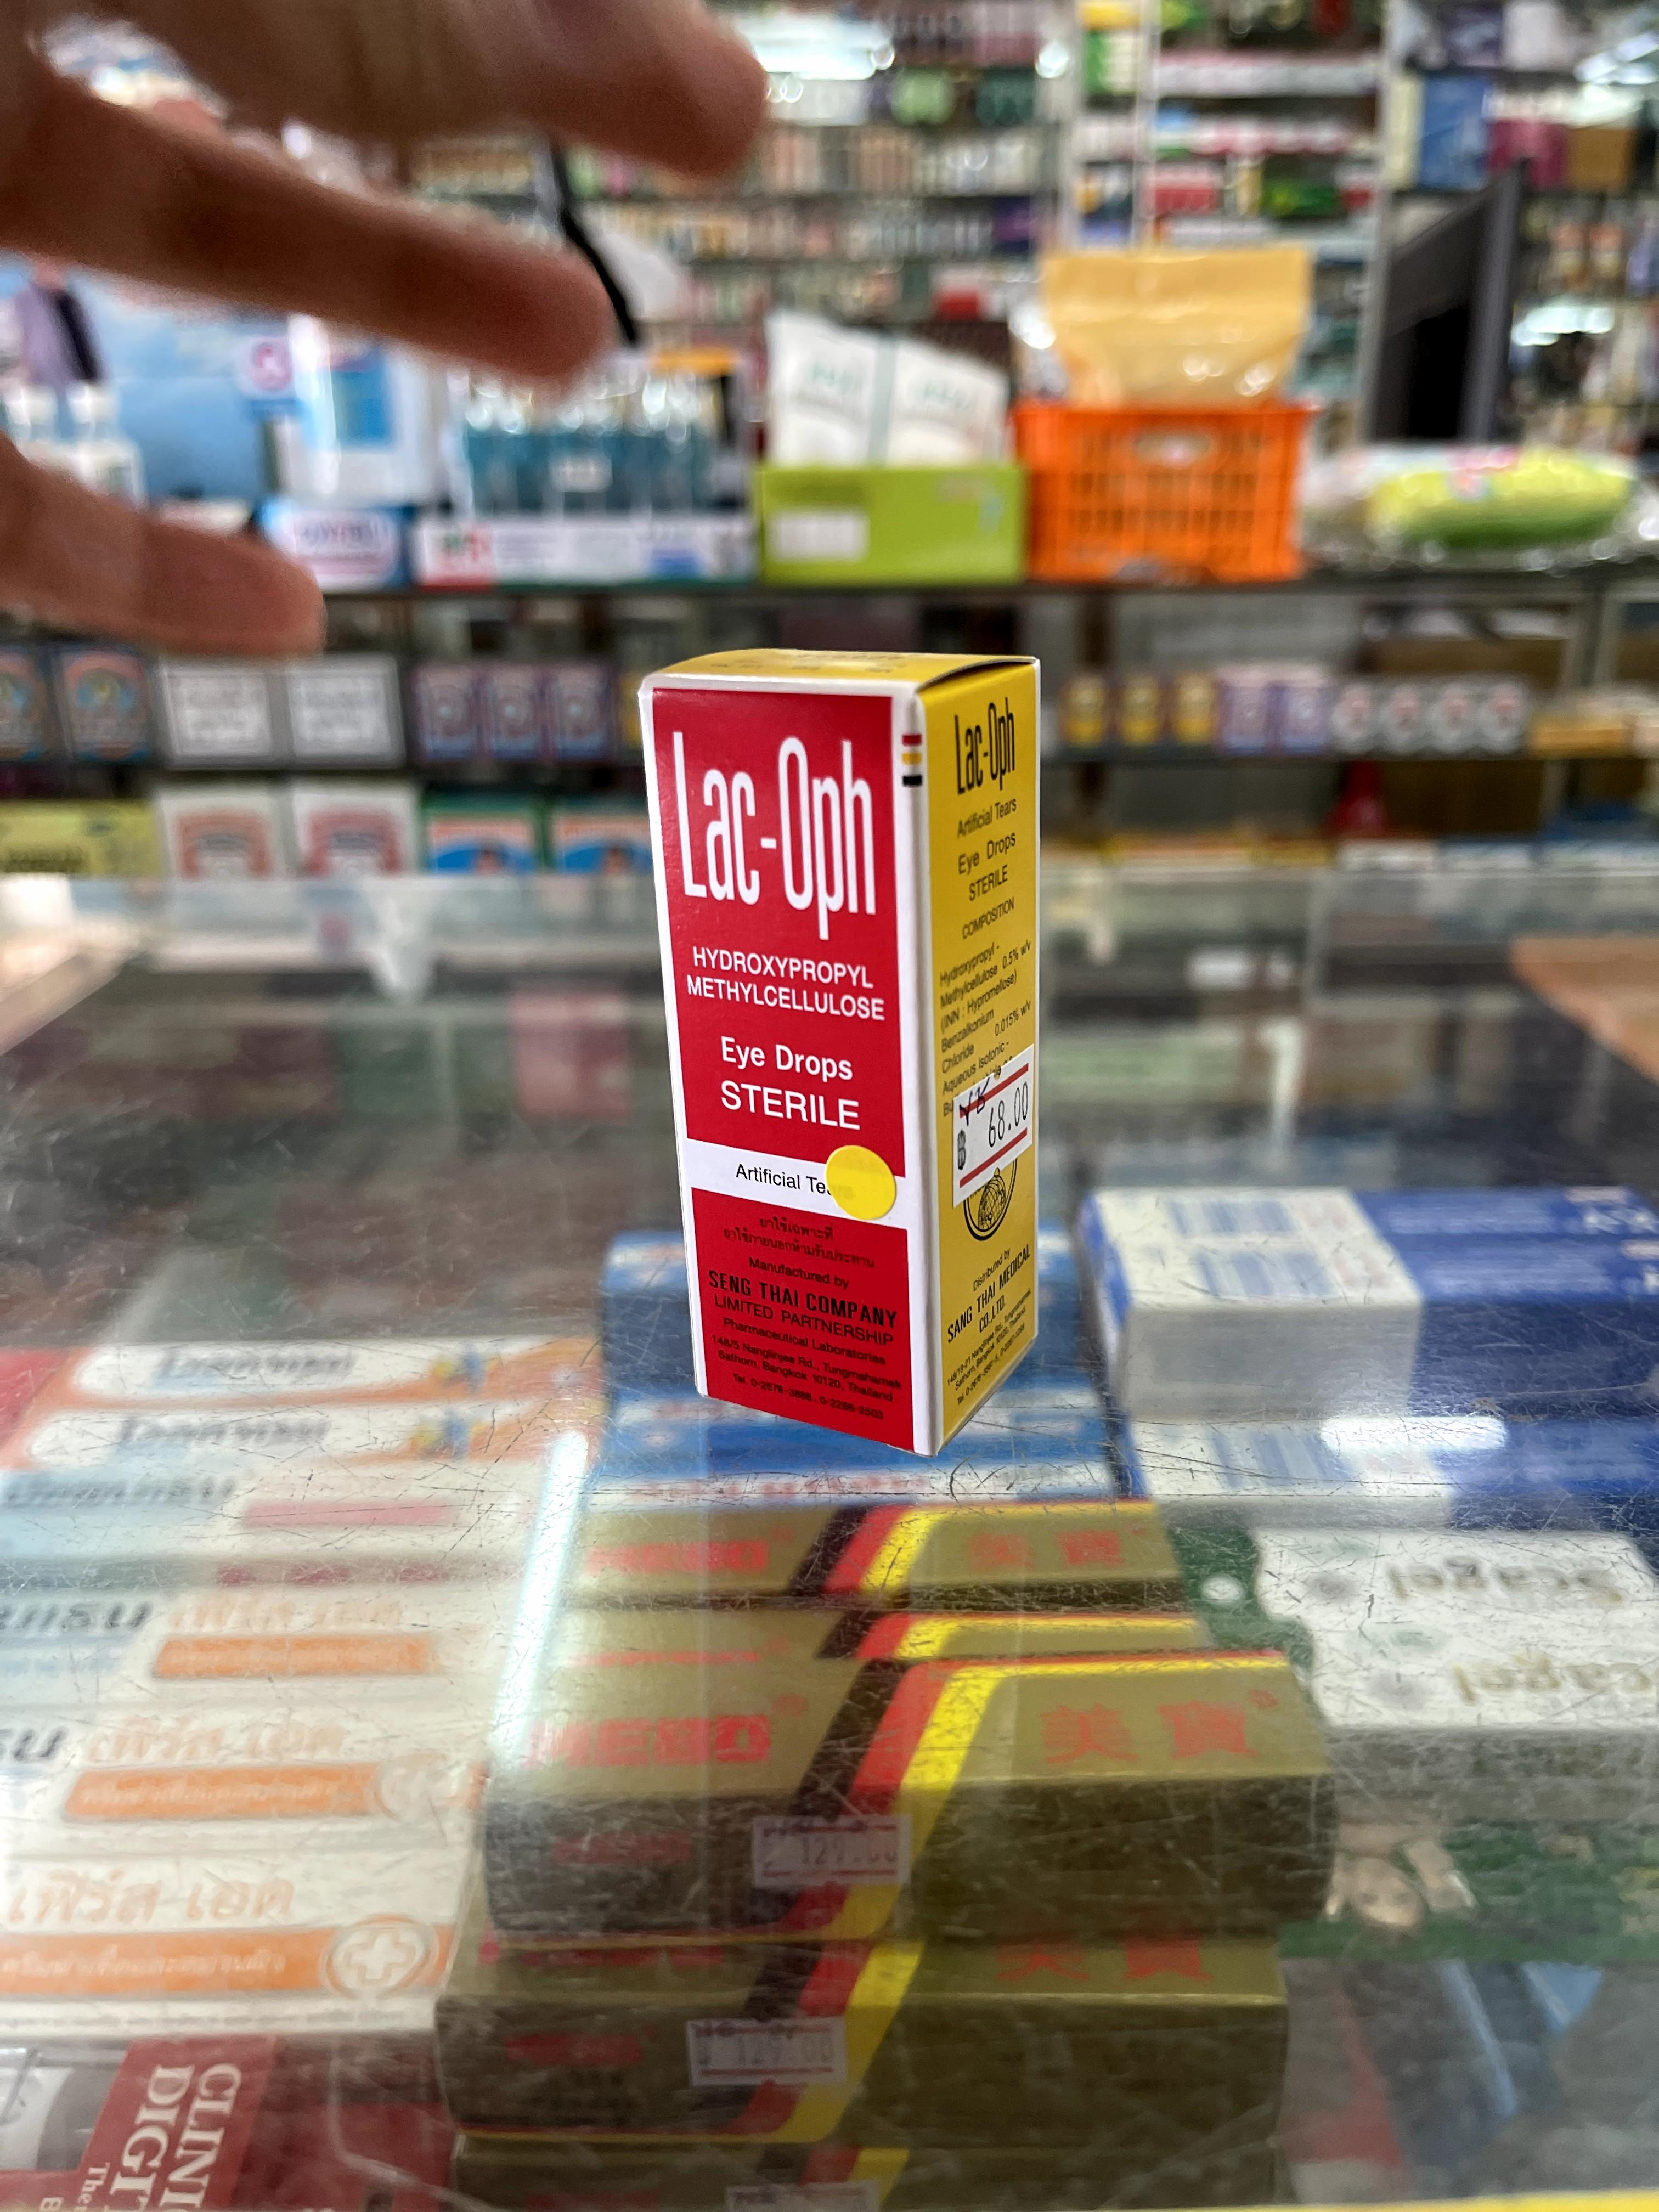Lac-Oph_Red: (640, 643, 1040, 1451)
